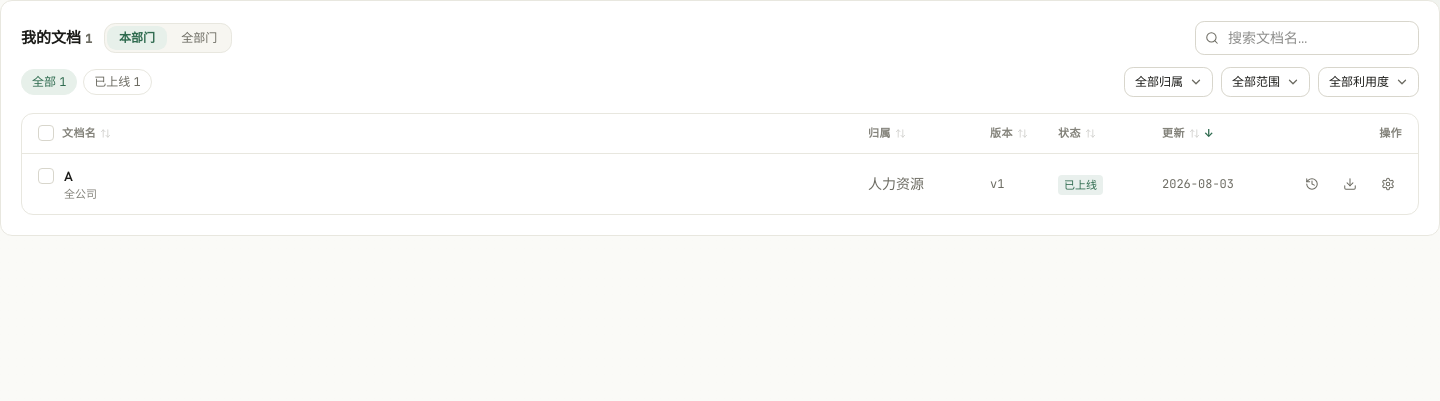
it: 行级菜单：公开文档的退役/恢复按钮前置禁用 › dept_admin + 公开文档 → 退役按钮 disabled 且给出原因
What coordinates should you click on to do the following:
click the button named "更多操作"
I would click on:
 (1388, 184)
Its box is [1374,170,1402,198].
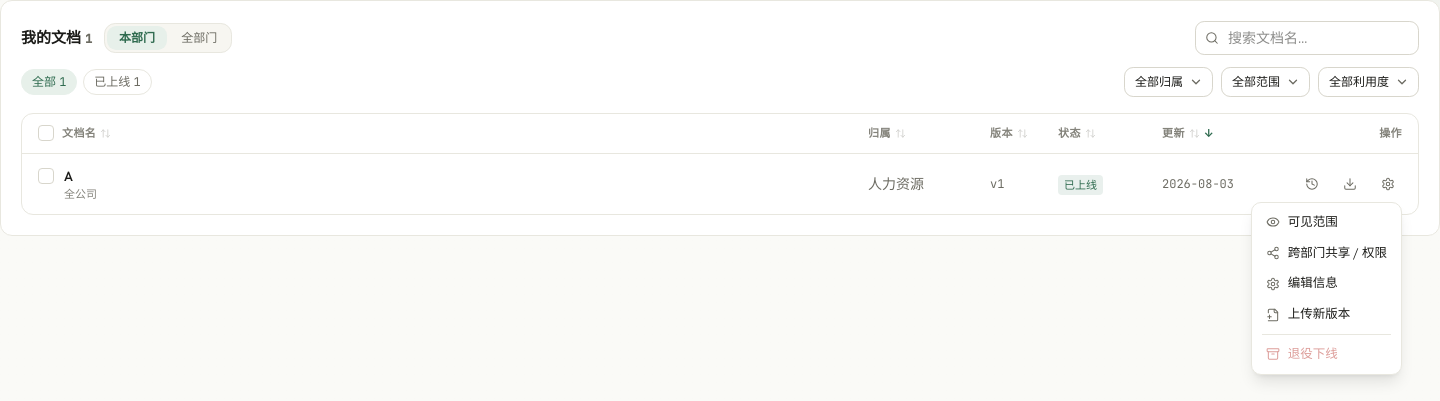
Now the menu item with test id "doc-retire" is disabled, box [1256,339,1397,370]
